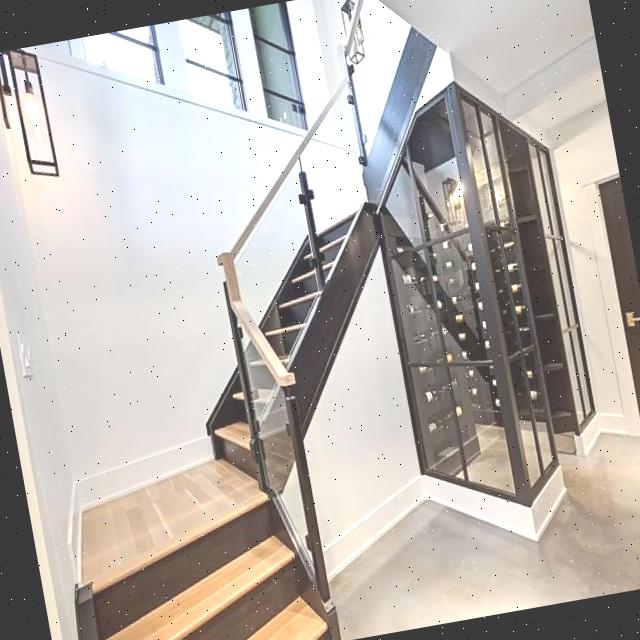stairs: (7, 202, 437, 640)
